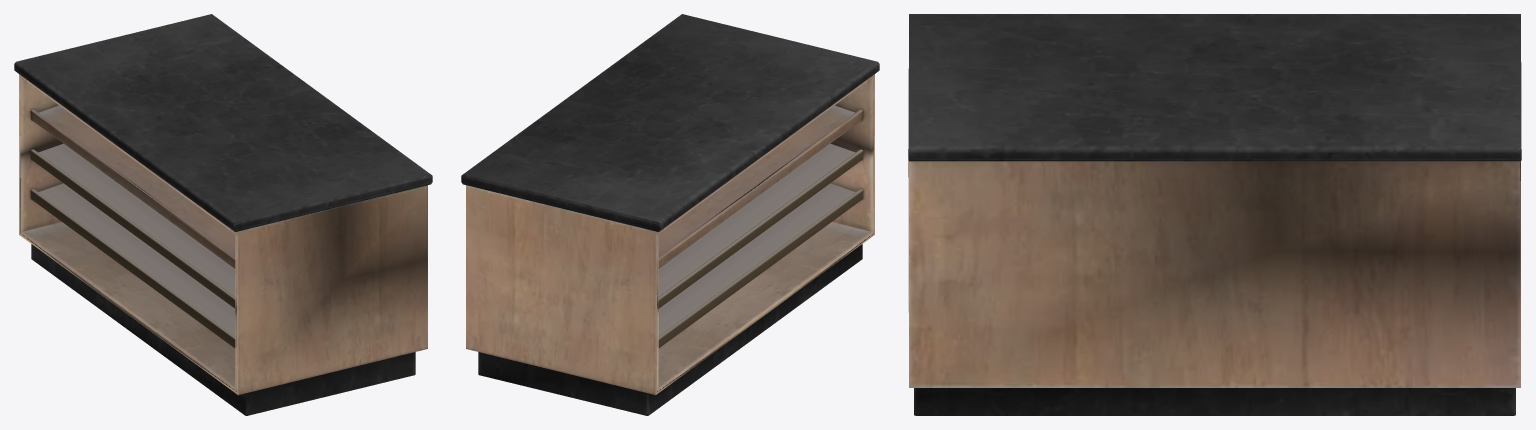
The model's file is supermarket_counter_a.glb.
3 views of the same model, side by side, from view 1: azimuth 30°, elevation 25°; view 2: azimuth 150°, elevation 25°; view 3: azimuth 270°, elevation 25° (orthographic). The views are drawn at different scales.
Visible parts, largest first — view 1: supermarket_counter_a; view 2: supermarket_counter_a; view 3: supermarket_counter_a.
Boxes of the visible parts, x1,y1,x2,y2 form: supermarket_counter_a: (14,14,432,415); supermarket_counter_a: (461,14,879,415); supermarket_counter_a: (908,14,1521,415).
Size of the model in its own units: 1.05 by 1 by 2.
Materials: 1 (1 with a texture image).
